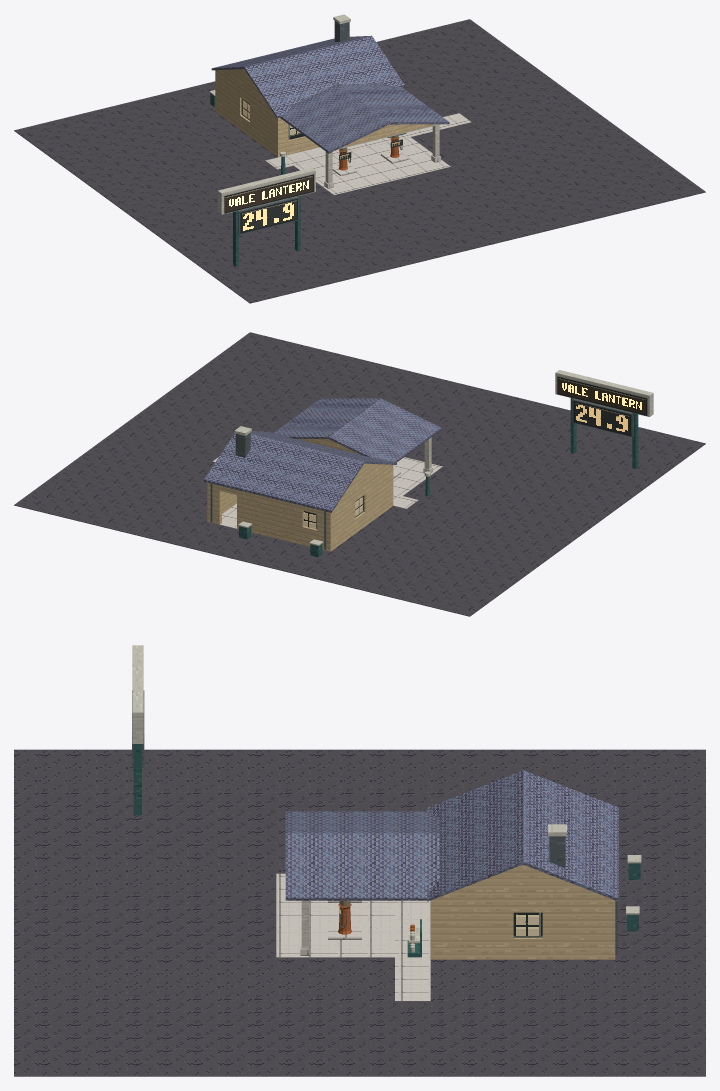
The model's file is vale-lantern-1925.glb.
3 views of the same model, one above another, from view 1: azimuth 30°, elevation 25°; view 2: azimuth 150°, elevation 25°; view 3: azimuth 270°, elevation 25° (orthographic). The views are drawn at different scales.
Parts seen in each view (by area): view 1: lot, shell, roadside_sign, sign_name_street, price_face_street, fuel_canopy; view 2: lot, shell, roadside_sign, sign_name_exit, price_face_exit; view 3: lot, shell, roadside_sign, pump_2.
Boxes of the visible parts, left/top/right/bottom form: lot: left=14, top=19, right=705, bottom=303; shell: left=211, top=14, right=449, bottom=156; roadside_sign: left=217, top=167, right=315, bottom=266; sign_name_street: left=224, top=174, right=314, bottom=213; price_face_street: left=240, top=198, right=297, bottom=233; fuel_canopy: left=324, top=124, right=440, bottom=188; lot: left=14, top=332, right=705, bottom=616; shell: left=203, top=398, right=441, bottom=551; roadside_sign: left=555, top=370, right=653, bottom=468; sign_name_exit: left=557, top=376, right=647, bottom=415; price_face_exit: left=573, top=401, right=630, bottom=435; lot: left=14, top=749, right=705, bottom=1076; shell: left=285, top=770, right=618, bottom=959; roadside_sign: left=132, top=645, right=144, bottom=815; pump_2: left=328, top=900, right=361, bottom=939.
Size of what is drawn, in the model's own units: 31.45 by 5.42 by 28.2.
Materials: 12 (12 with a texture image).
